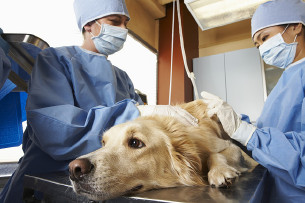face_mask: (254, 18, 299, 68), (91, 10, 128, 54)
